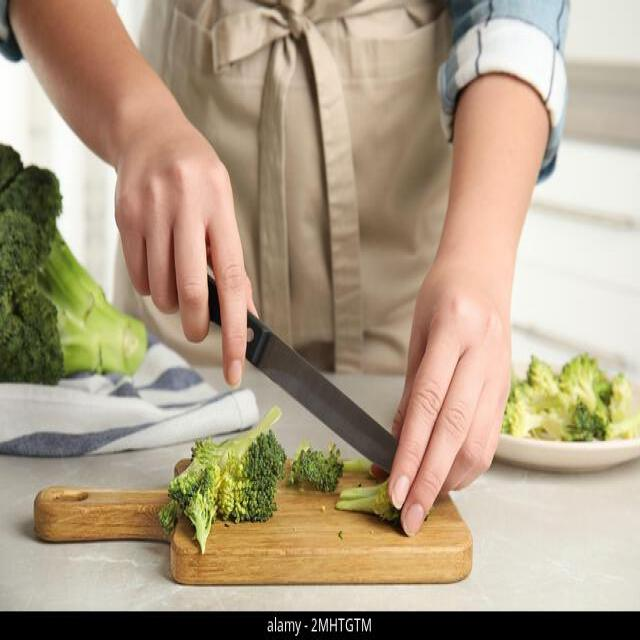broccoli: (1, 134, 151, 388), (169, 429, 412, 544), (498, 355, 634, 445)
